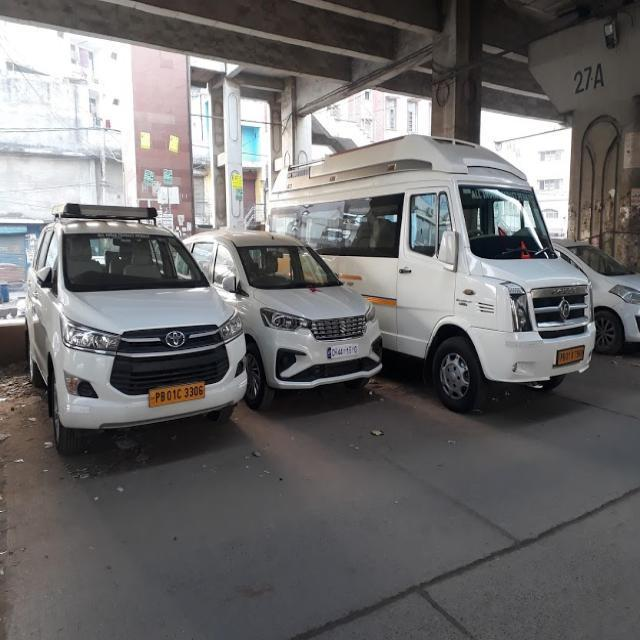Ambulance: (0, 330, 638, 638), (19, 129, 602, 458), (263, 132, 598, 415), (21, 200, 249, 457), (173, 225, 384, 414), (548, 236, 638, 358)
